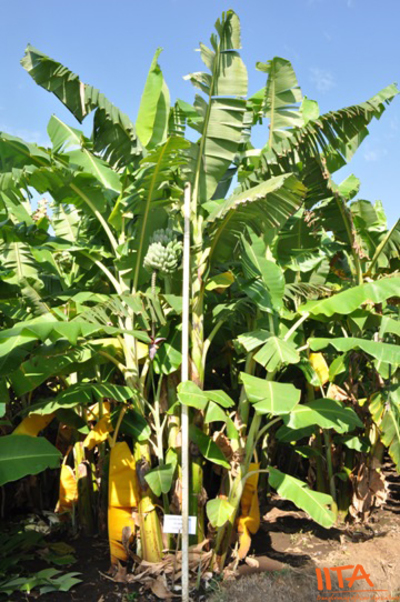bananaHand: (141, 223, 188, 276)
